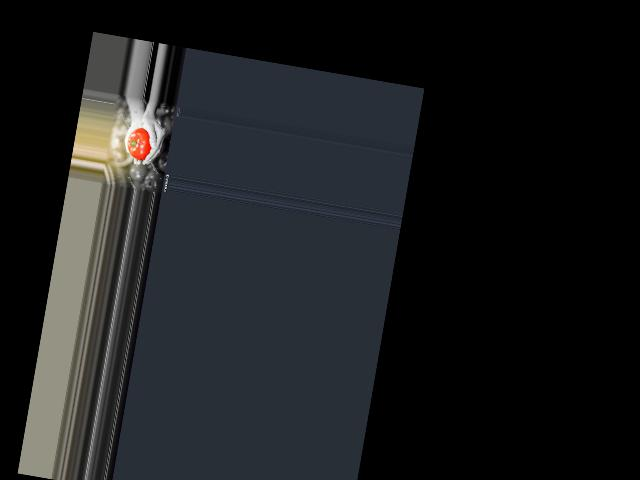tomato: (125, 125, 154, 161)
